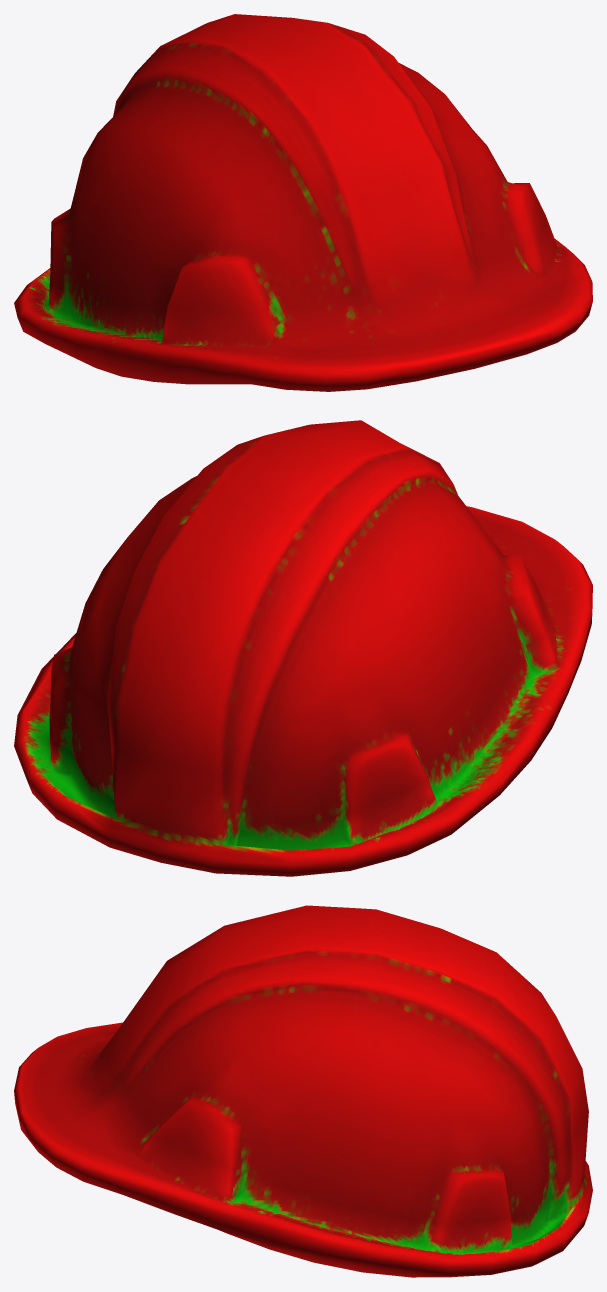
Rendered from Outfit_Hat_HardHat.obj.
3 views of the same model, one above another, from view 1: azimuth 30°, elevation 25°; view 2: azimuth 150°, elevation 25°; view 3: azimuth 270°, elevation 25° (orthographic). The views are drawn at different scales.
Visible parts, largest first — view 1: Outfit_Hat_HardHat_0; view 2: Outfit_Hat_HardHat_0; view 3: Outfit_Hat_HardHat_0.
Part boxes in pixels (<box>): Outfit_Hat_HardHat_0: <box>14,14,592,391</box>; Outfit_Hat_HardHat_0: <box>14,420,592,876</box>; Outfit_Hat_HardHat_0: <box>14,905,592,1277</box>.
Bounding box in the file's own units: 0.2649 × 0.1838 × 0.3156.
Materials: 1 (1 with a texture image).
